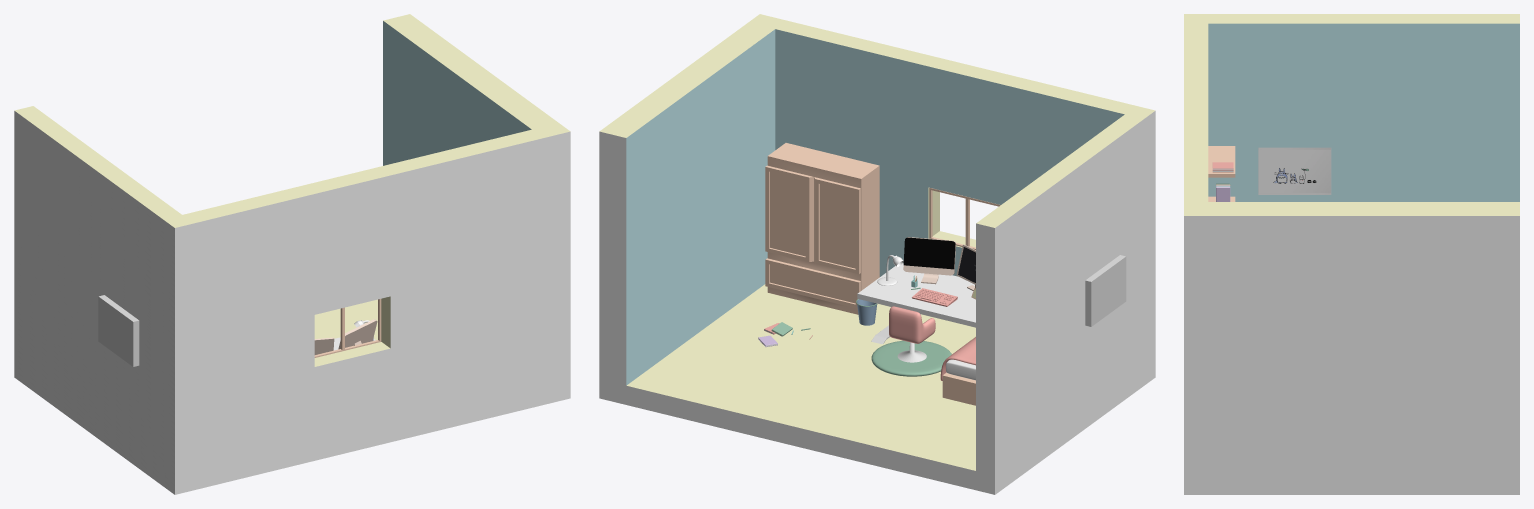
Rendered from Study_Room_28.glb.
The picture shows the model from 3 angles, left to right: view 1: azimuth 30°, elevation 25°; view 2: azimuth 150°, elevation 25°; view 3: azimuth 270°, elevation 25°; orthographic projection. The views are drawn at different scales.
Parts seen in each view (by area): view 1: Room, Poster, Window Frame; view 2: Room, Closet, Table Top, Poster, Rug, Desktop Screen, Chair, Bedframe, Window Frame; view 3: Room, Poster.001, Shelf.001.
Part boxes in pixels (x1,y1,x2,y2): Room: (14, 14, 570, 494); Poster: (98, 295, 139, 366); Window Frame: (314, 299, 381, 357); Room: (599, 14, 1155, 494); Closet: (765, 143, 879, 314); Table Top: (857, 263, 975, 327); Poster: (1085, 255, 1126, 326); Rug: (871, 340, 951, 376); Desktop Screen: (903, 237, 955, 269); Chair: (889, 306, 935, 343); Bedframe: (942, 372, 975, 405); Window Frame: (929, 187, 1000, 249); Room: (1184, 14, 1519, 494); Poster.001: (1258, 147, 1331, 194); Shelf.001: (1208, 146, 1235, 177).
Size of the model in its own units: 28.14 by 17.86 by 19.48.
29 materials, 4 textured.
